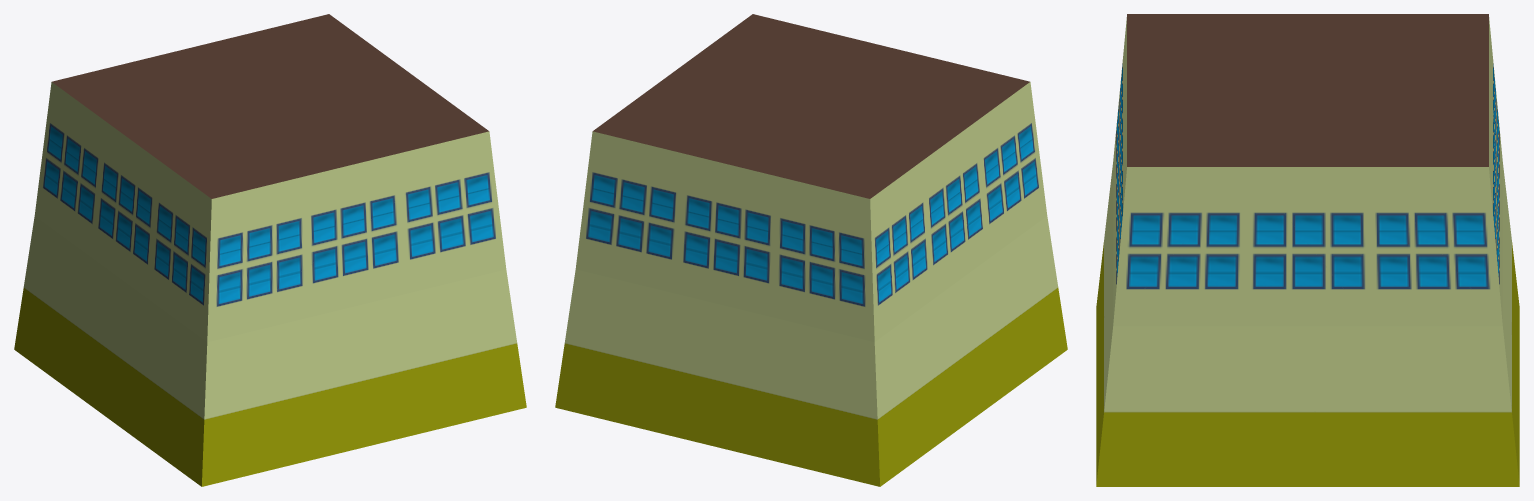
The model's file is Building_1_Bottom.fbx.
3 renders of one model, left to right at view 1: azimuth 30°, elevation 25°; view 2: azimuth 150°, elevation 25°; view 3: azimuth 270°, elevation 25°, orthographic. The views are drawn at different scales.
Parts seen in each view (by area): view 1: Building_1_Bottom; view 2: Building_1_Bottom; view 3: Building_1_Bottom.
Boxes of the visible parts, x1,y1,x2,y2 form: Building_1_Bottom: (14,14,526,486); Building_1_Bottom: (555,14,1067,486); Building_1_Bottom: (1096,14,1519,486).
Bounding box in the file's own units: 100 × 80 × 100.
